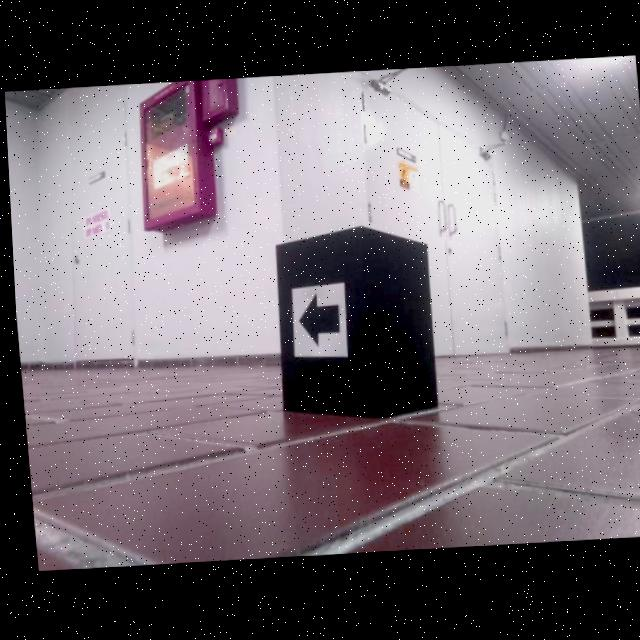LEFT: (295, 293, 336, 349)
